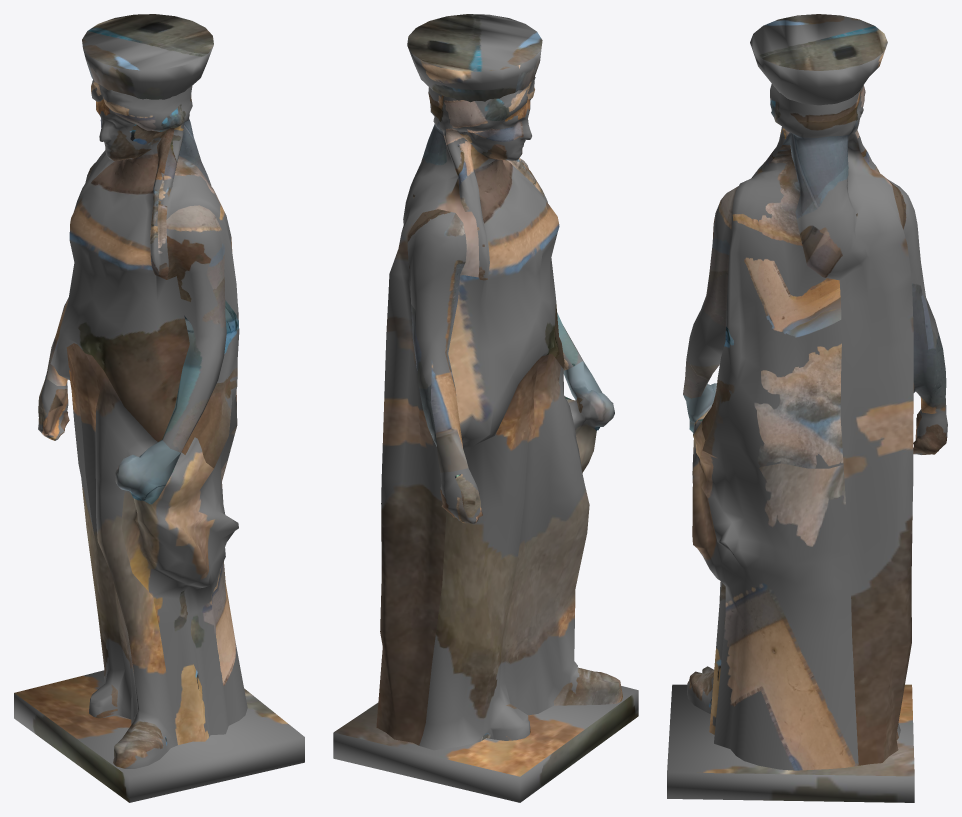
The model's file is mujer.obj.
3 views of the same model, side by side, from view 1: azimuth 30°, elevation 25°; view 2: azimuth 150°, elevation 25°; view 3: azimuth 270°, elevation 25° (orthographic). The views are drawn at different scales.
Visible parts, largest first — view 1: Spouse_Material_0_0; view 2: Spouse_Material_0_0; view 3: Spouse_Material_0_0.
Boxes of the visible parts, <box> form: Spouse_Material_0_0: <box>14,14,304,802</box>; Spouse_Material_0_0: <box>333,14,638,802</box>; Spouse_Material_0_0: <box>667,14,947,802</box>.
Size of the model in its own units: 236 by 857 by 305.
